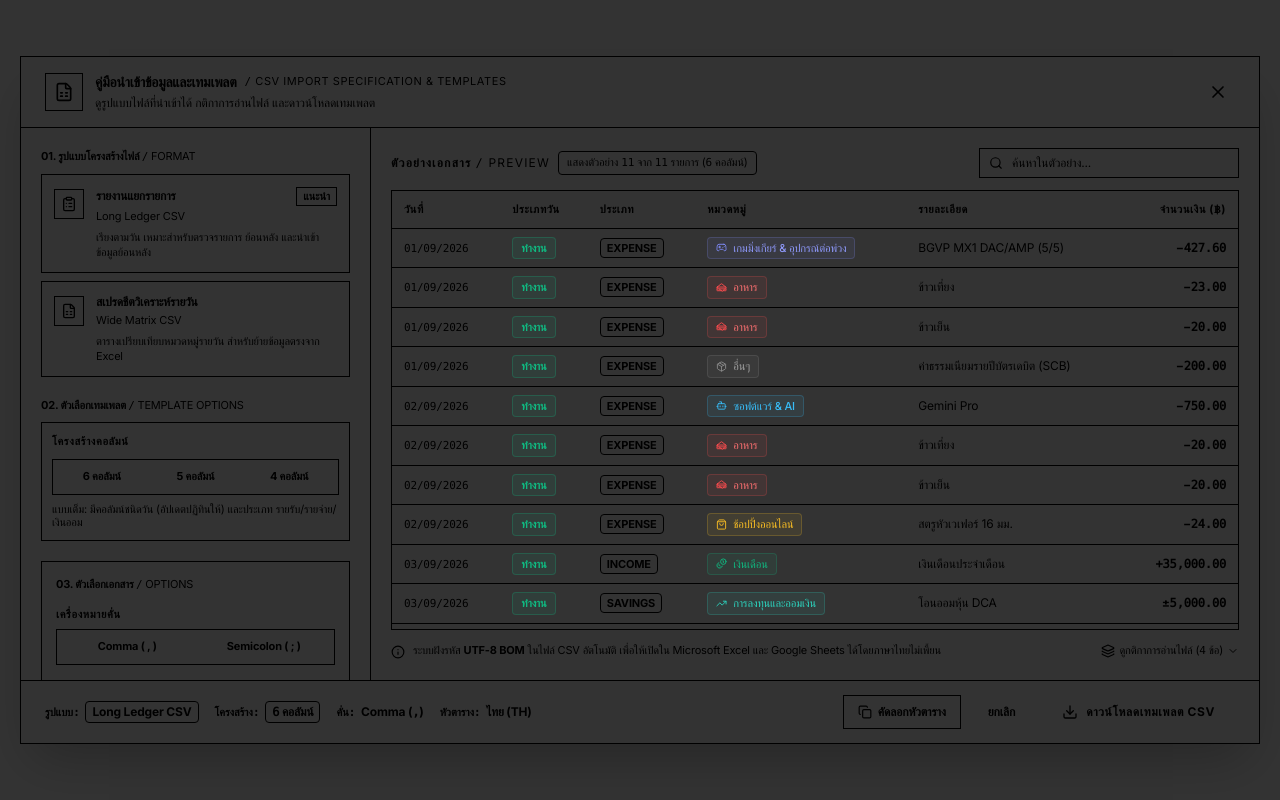
Test case: ImportGuideModal — details that are easy to lose › with no categories in the system the standard five are used and counted
Click the button that starts with "สเปรดชีตวิเคราะห์รายวัน".
click(147, 302)  # box top-left (41, 281), bottom-right (350, 377)
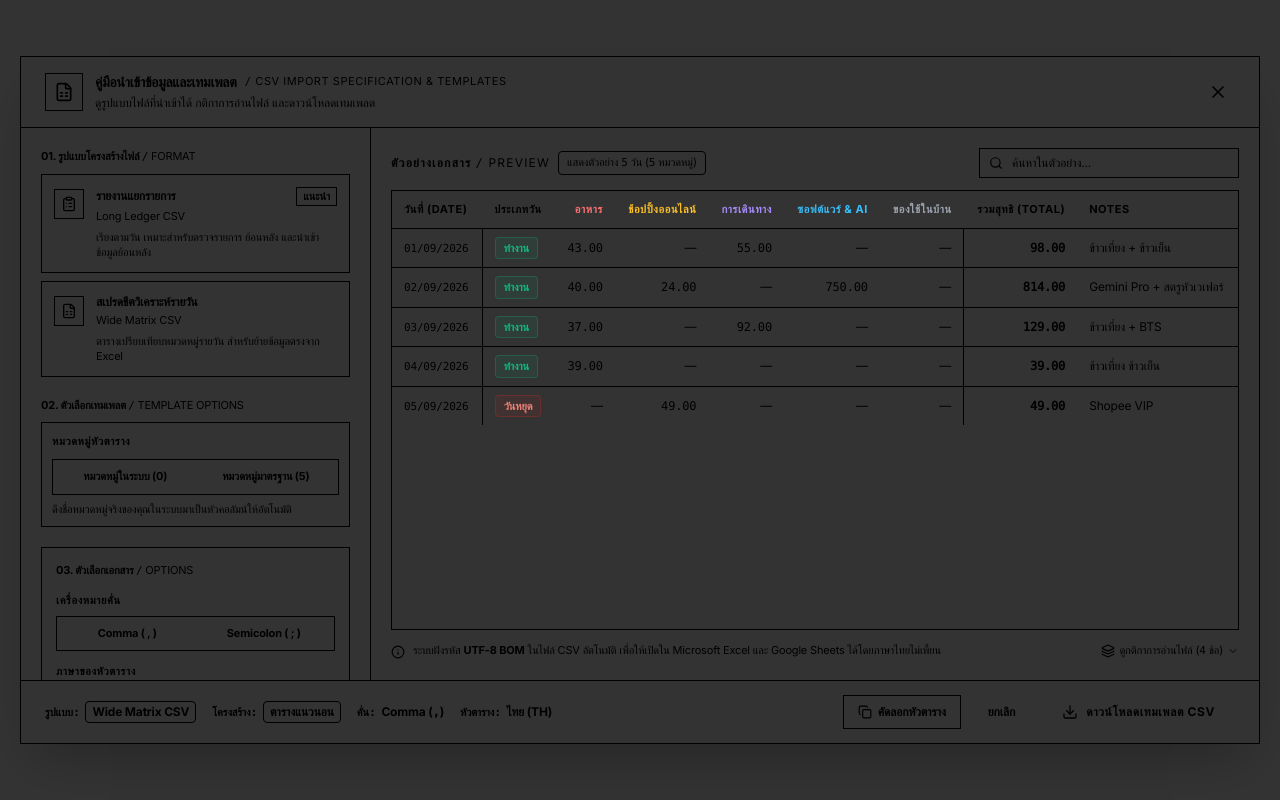
Expected: the button "หมวดหมู่ในระบบ (0)" is shown, top-left (57, 464), bottom-right (194, 490)
Expected: the text "แสดงตัวอย่าง 5 วัน (5 หมวดหมู่)" is shown, top-left (558, 151), bottom-right (706, 175)
